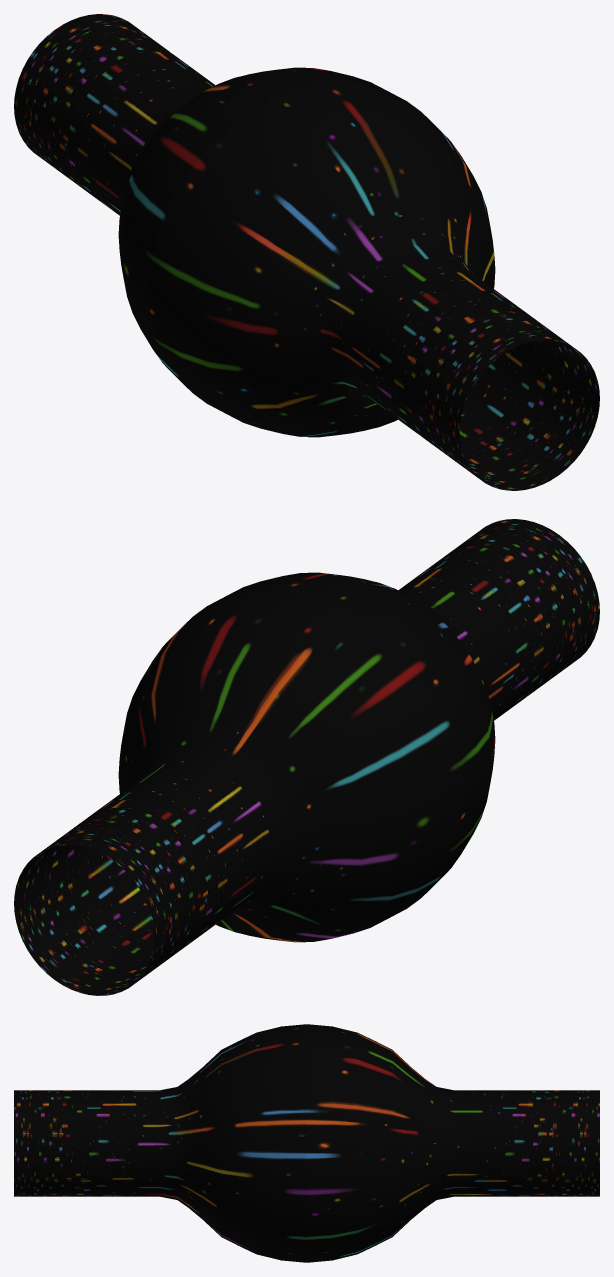
The model's file is HyperspaceTunnel.fbx.
3 views of the same model, one above another, from view 1: azimuth 30°, elevation 25°; view 2: azimuth 150°, elevation 25°; view 3: azimuth 270°, elevation 25° (orthographic). The views are drawn at different scales.
Parts seen in each view (by area): view 1: pCylinder4; view 2: pCylinder4; view 3: pCylinder4.
Boxes of the visible parts, x1,y1,x2,y2 form: pCylinder4: (14,14,599,490); pCylinder4: (14,519,599,995); pCylinder4: (14,1024,599,1262).
Bounding box in the file's own units: 4730 × 4721 × 11614.
